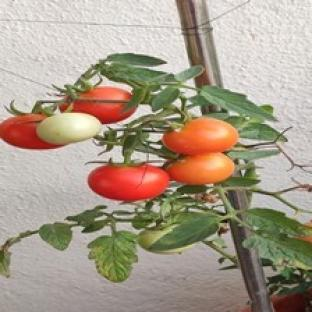Tomato: (88, 163, 169, 201), (162, 117, 238, 154), (72, 87, 136, 123), (0, 115, 64, 149), (168, 154, 235, 185), (37, 113, 101, 144), (138, 225, 194, 253), (271, 294, 307, 311), (300, 237, 311, 242)
